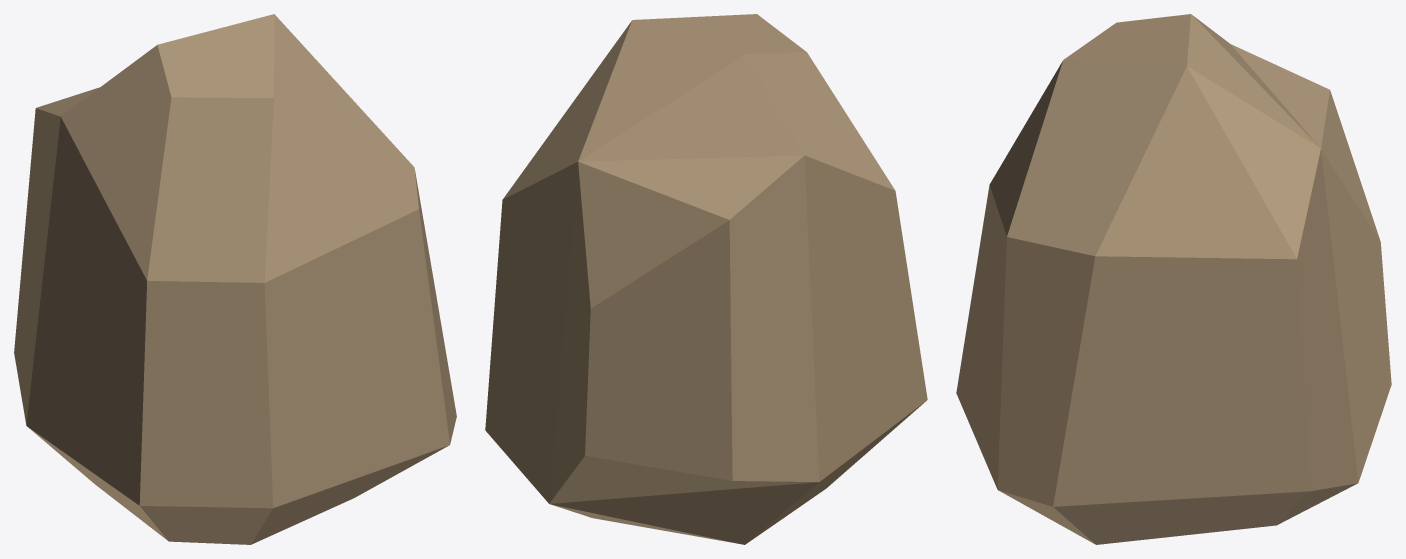
Rendered from TB_D_Env_RockB_B.FBX.
The picture shows the model from 3 angles, left to right: view 1: azimuth 30°, elevation 25°; view 2: azimuth 150°, elevation 25°; view 3: azimuth 270°, elevation 25°; orthographic projection.
Visible parts, largest first — view 1: TB_D_Env_RockB_B; view 2: TB_D_Env_RockB_B; view 3: TB_D_Env_RockB_B.
Part boxes in pixels (x1,y1,x2,y2): TB_D_Env_RockB_B: (14,14,456,544); TB_D_Env_RockB_B: (485,14,927,544); TB_D_Env_RockB_B: (956,14,1391,544).
Size of the model in its own units: 1.32 by 1.74 by 1.49.
